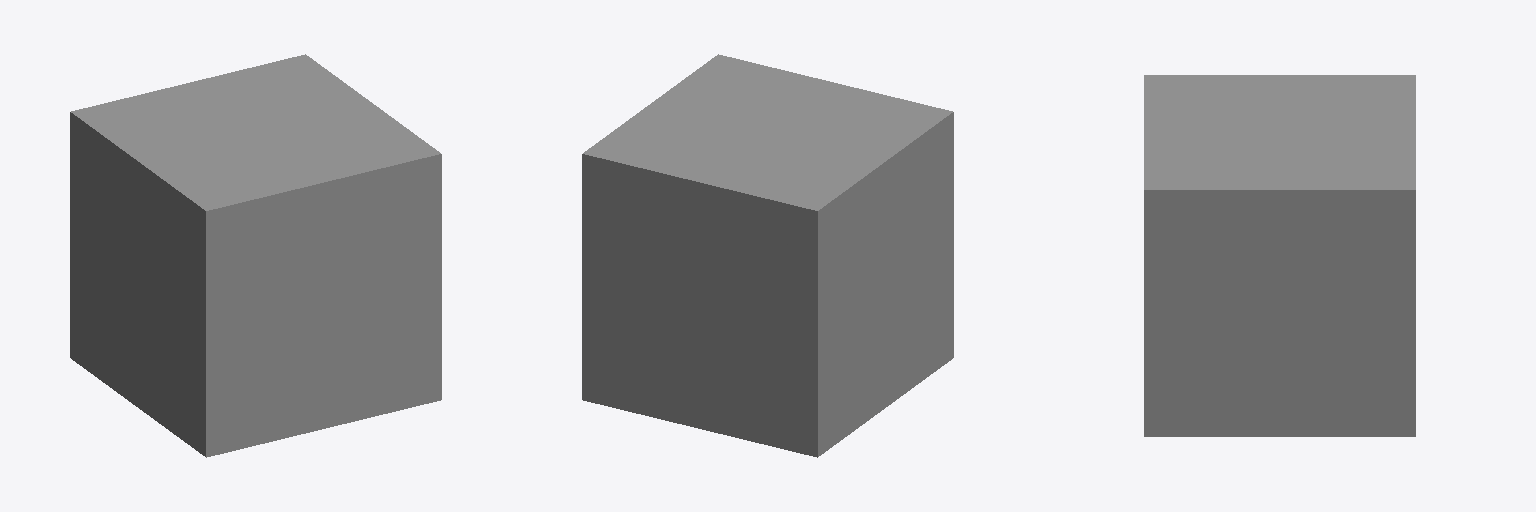
The picture shows the model from 3 angles: view 1: azimuth 30°, elevation 25°; view 2: azimuth 150°, elevation 25°; view 3: azimuth 270°, elevation 25°; orthographic projection.
Parts seen in each view (by area): view 1: Cube_Cube.001; view 2: Cube_Cube.001; view 3: Cube_Cube.001.
Boxes of the visible parts, x1,y1,x2,y2 form: Cube_Cube.001: [70, 54, 441, 457]; Cube_Cube.001: [582, 54, 953, 457]; Cube_Cube.001: [1144, 75, 1415, 436].
Bounding box in the file's own units: 2 × 2 × 2.
1 materials, 1 textured.